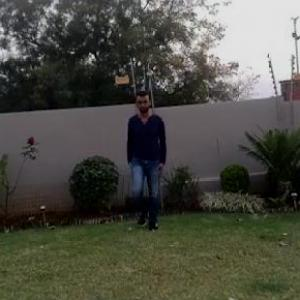follow: (119, 87, 168, 238)
